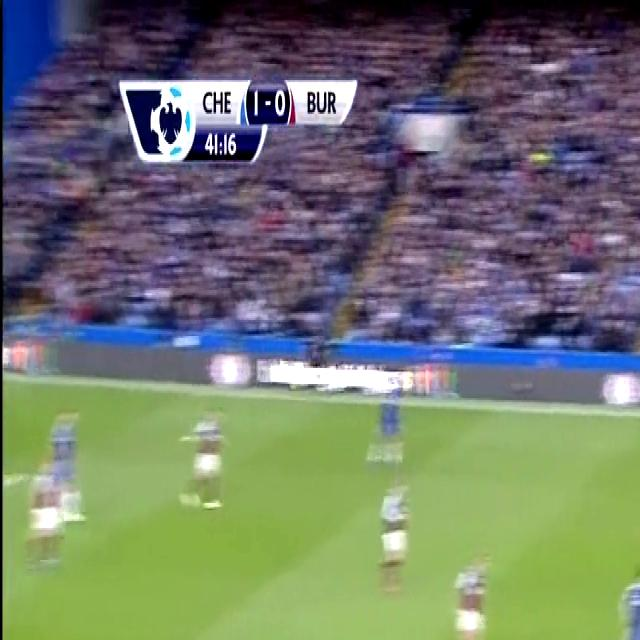soccer-player: (172, 386, 236, 524), (17, 438, 67, 584), (45, 389, 92, 538), (372, 466, 420, 606), (443, 533, 497, 640), (362, 368, 406, 488), (609, 544, 640, 640)
